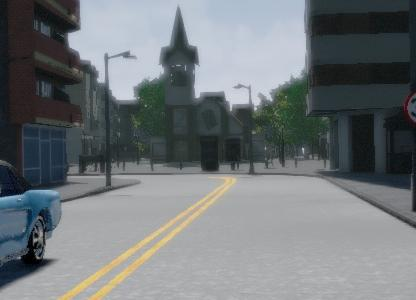Speed_30: (401, 83, 416, 130)
